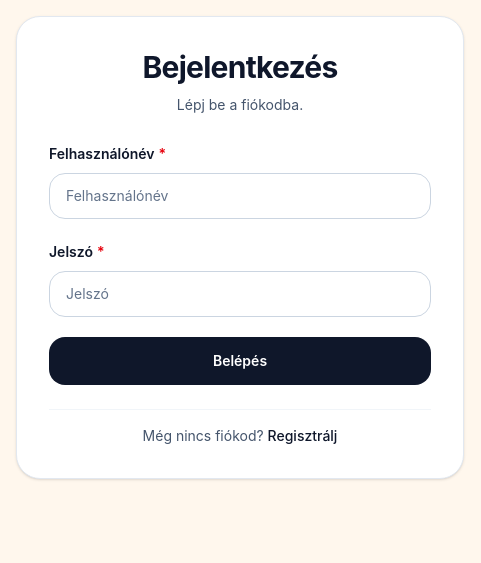
it: LoginPage › shows the backend login error
Type "anna" into the field labelled "Felhasználónév*".
click(240, 196); type("anna")  # box left=49, top=173, right=431, bottom=219
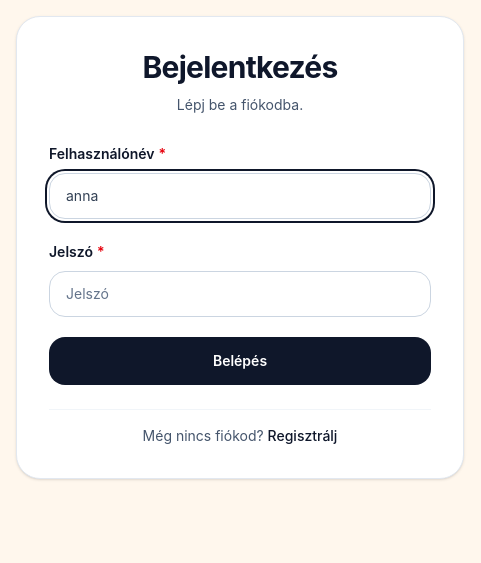
Type "rosszjelszo" into the password field labelled "Jelszó*".
click(240, 294); type("rosszjelszo")  # box left=49, top=271, right=431, bottom=317
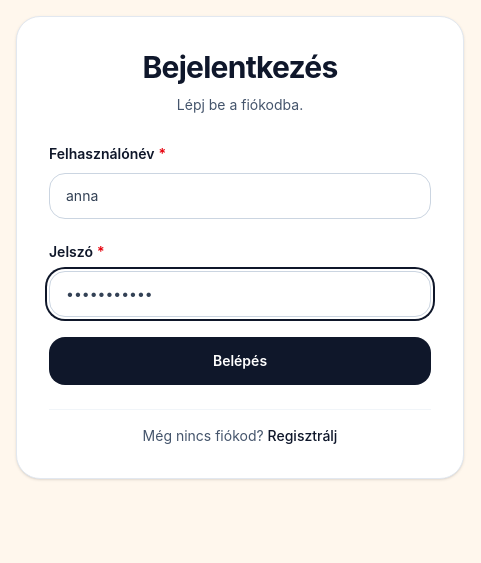
Click the button "Belépés".
click(240, 361)  # box left=49, top=337, right=431, bottom=385
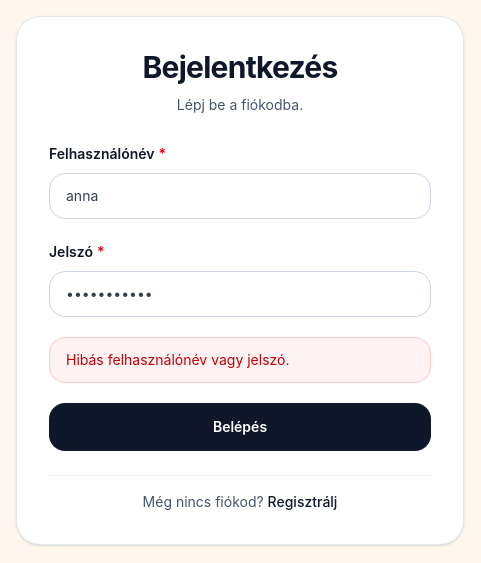
Expected: the message reads "Hibás felhasználónév vagy jelszó.", left=66, top=351, right=290, bottom=368
